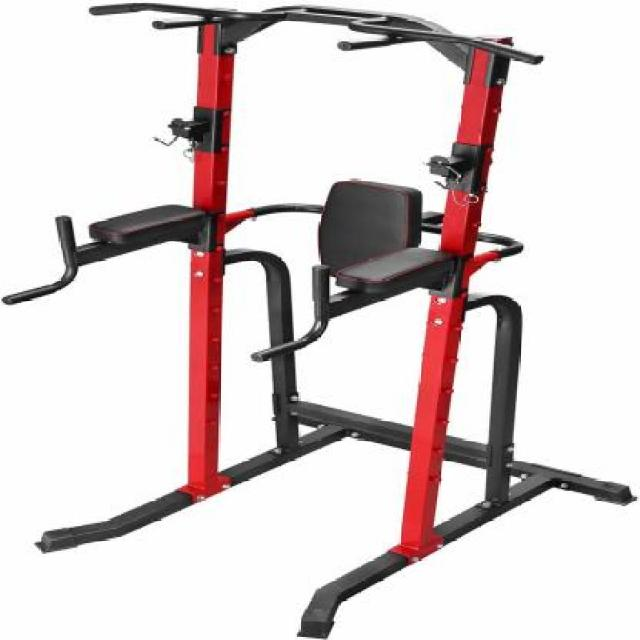chinning dipping: (2, 2, 623, 636)
